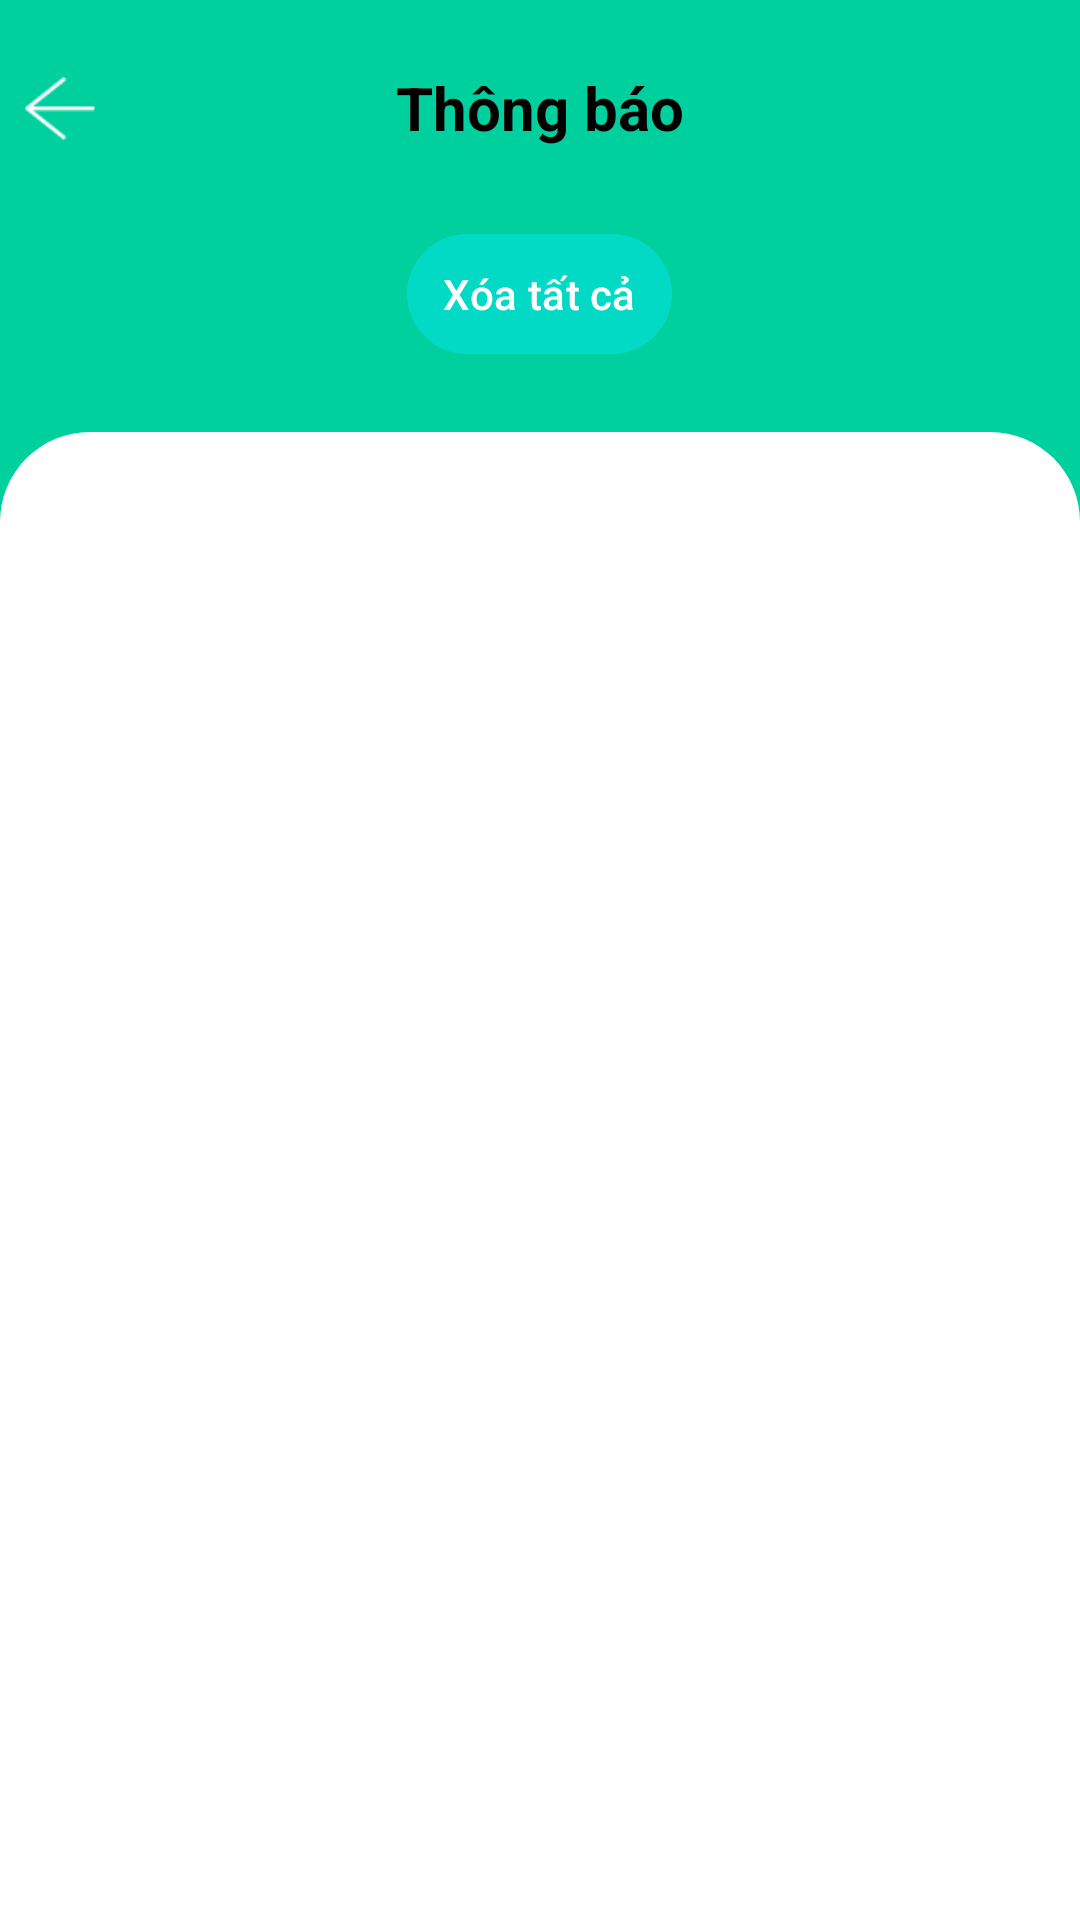

Named icons in this screenshot (1080x1920) and their centers, [x,y]:
back: [60,108]
